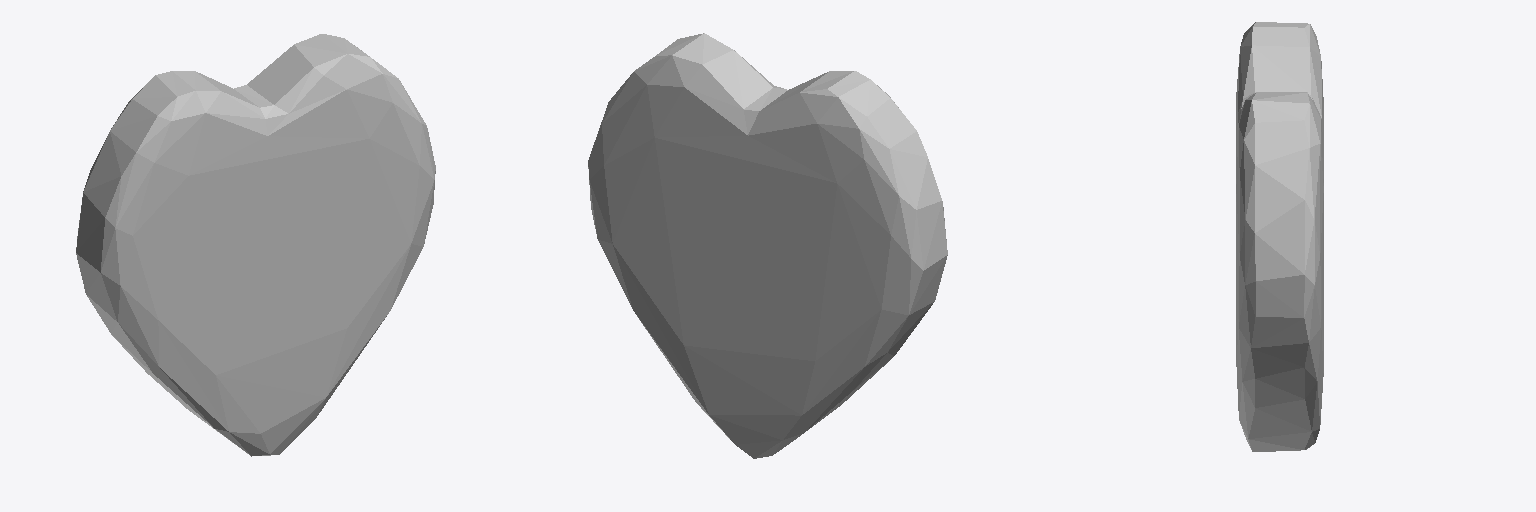
The model's file is _zenly.obj.
The picture shows the model from 3 angles: view 1: azimuth 30°, elevation 25°; view 2: azimuth 150°, elevation 25°; view 3: azimuth 270°, elevation 25°; orthographic projection.
Visible parts, largest first — view 1: Like; view 2: Like; view 3: Like.
Part boxes in pixels (left/top/right/bottom): Like: left=76, top=34, right=435, bottom=456; Like: left=588, top=33, right=947, bottom=458; Like: left=1236, top=22, right=1323, bottom=451.
Size of the model in its own units: 42.25 by 46.58 by 9.53.